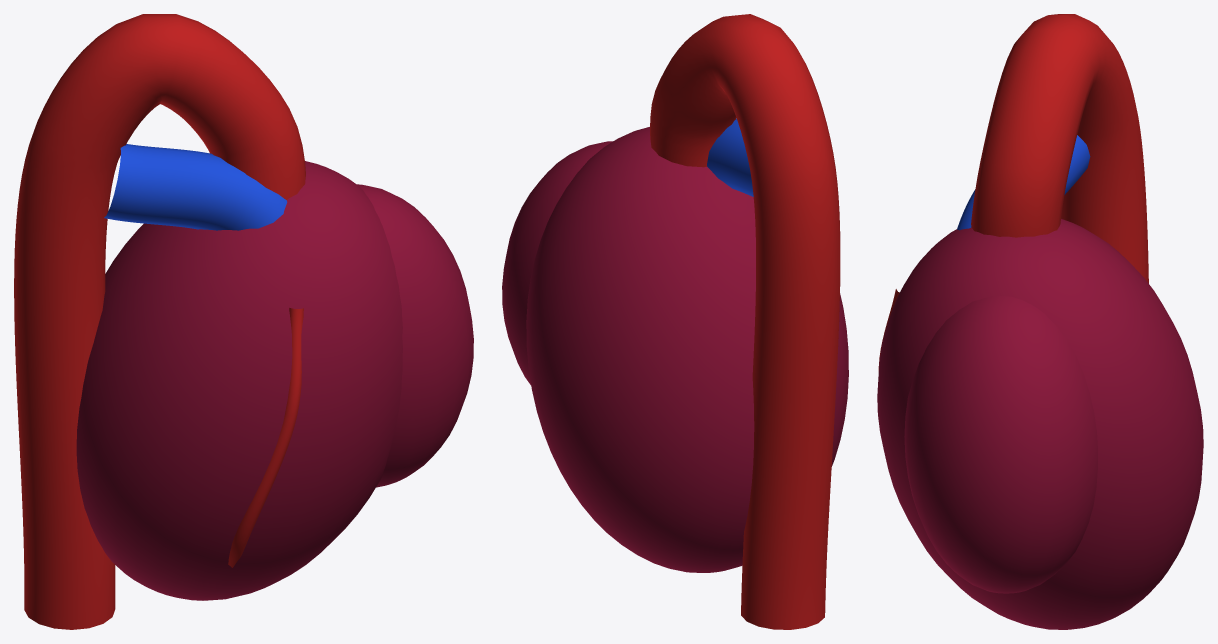
The model's file is heart_great_vessels.glb.
The picture shows the model from 3 angles, left to right: view 1: azimuth 30°, elevation 25°; view 2: azimuth 150°, elevation 25°; view 3: azimuth 270°, elevation 25°; orthographic projection. The views are drawn at different scales.
Visible parts, largest first — view 1: LeftVentricle, AorticArch, RightVentricle, PulmonaryArtery, LAD_Coronary; view 2: LeftVentricle, AorticArch, RightVentricle, PulmonaryArtery; view 3: LeftVentricle, RightVentricle, AorticArch, PulmonaryArtery.
Boxes of the visible parts, x1,y1,x2,y2 form: LeftVentricle: (76,161,402,600); AorticArch: (14,14,305,629); RightVentricle: (357,184,473,487); PulmonaryArtery: (104,144,287,230); LAD_Coronary: (228,308,303,567); LeftVentricle: (526,127,848,572); AorticArch: (650,14,840,629); RightVentricle: (502,141,612,385); PulmonaryArtery: (707,118,753,196); LeftVentricle: (877,219,1203,629); RightVentricle: (904,296,1097,593); AorticArch: (971,14,1148,283); PulmonaryArtery: (957,135,1090,230).
Bounding box in the file's own units: 2.58 × 3.76 × 1.91.
